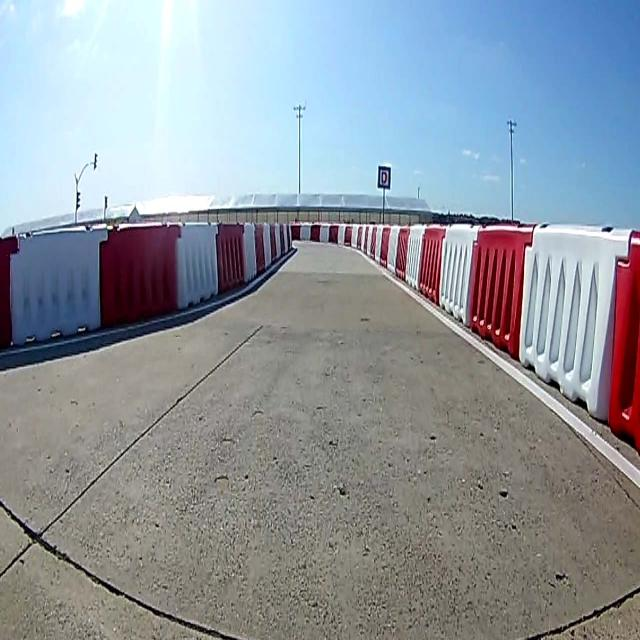durak: (377, 163, 391, 190)
